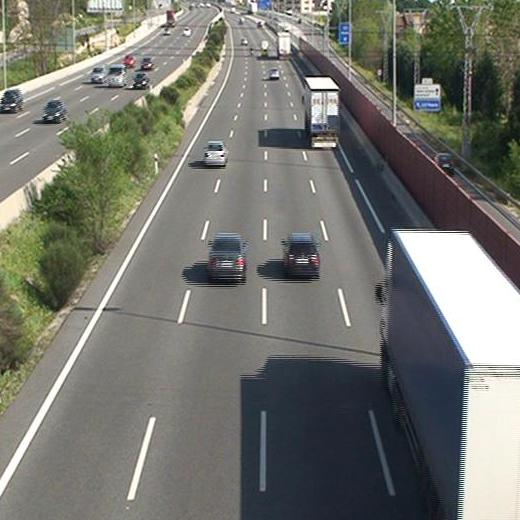car: (206, 235, 245, 279), (284, 235, 320, 279), (204, 142, 226, 166), (268, 68, 280, 79)
truck: (380, 229, 520, 520), (305, 77, 339, 148), (277, 31, 290, 61)
